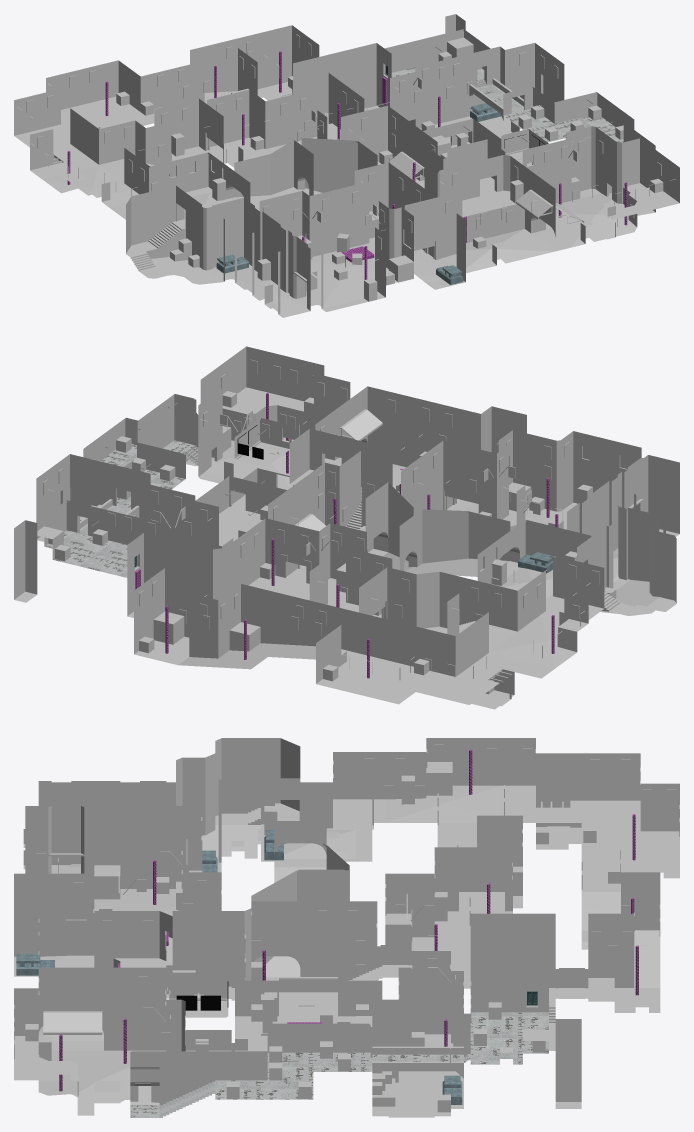
File: de_dolc.gltf
3 views of the same model, one above another, from view 1: azimuth 30°, elevation 25°; view 2: azimuth 150°, elevation 25°; view 3: azimuth 270°, elevation 25° (orthographic). The views are drawn at different scales.
Parts seen in each view (by area): view 1: *0, *4; view 2: *0, *4, *19; view 3: *0, *4, *2, *29, *34, *11.
Boxes of the visible parts, left/top/right/bottom form: *0: left=14, top=14, right=679, bottom=317; *4: left=297, top=211, right=413, bottom=301; *0: left=14, top=346, right=679, bottom=709; *4: left=479, top=482, right=592, bottom=530; *19: left=518, top=552, right=554, bottom=573; *0: left=14, top=738, right=679, bottom=1117; *4: left=94, top=865, right=202, bottom=938; *2: left=195, top=992, right=372, bottom=1051; *29: left=372, top=1048, right=463, bottom=1069; *34: left=16, top=954, right=54, bottom=975; *11: left=176, top=981, right=228, bottom=1010.
Size of the model in its own units: 109 by 13.44 by 97.68.
